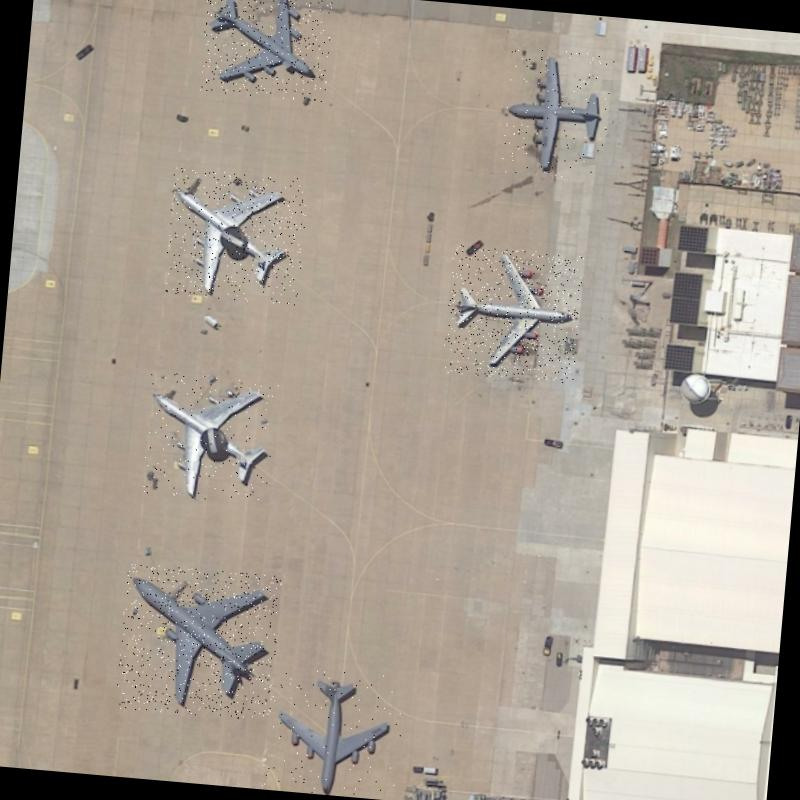A14: (442, 244, 584, 384), (261, 665, 406, 800), (199, 0, 334, 102)
A18: (115, 563, 282, 722)
A2: (501, 46, 615, 182)
A7: (163, 168, 309, 306), (141, 371, 280, 505)
